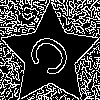C: (25, 30, 81, 87)
